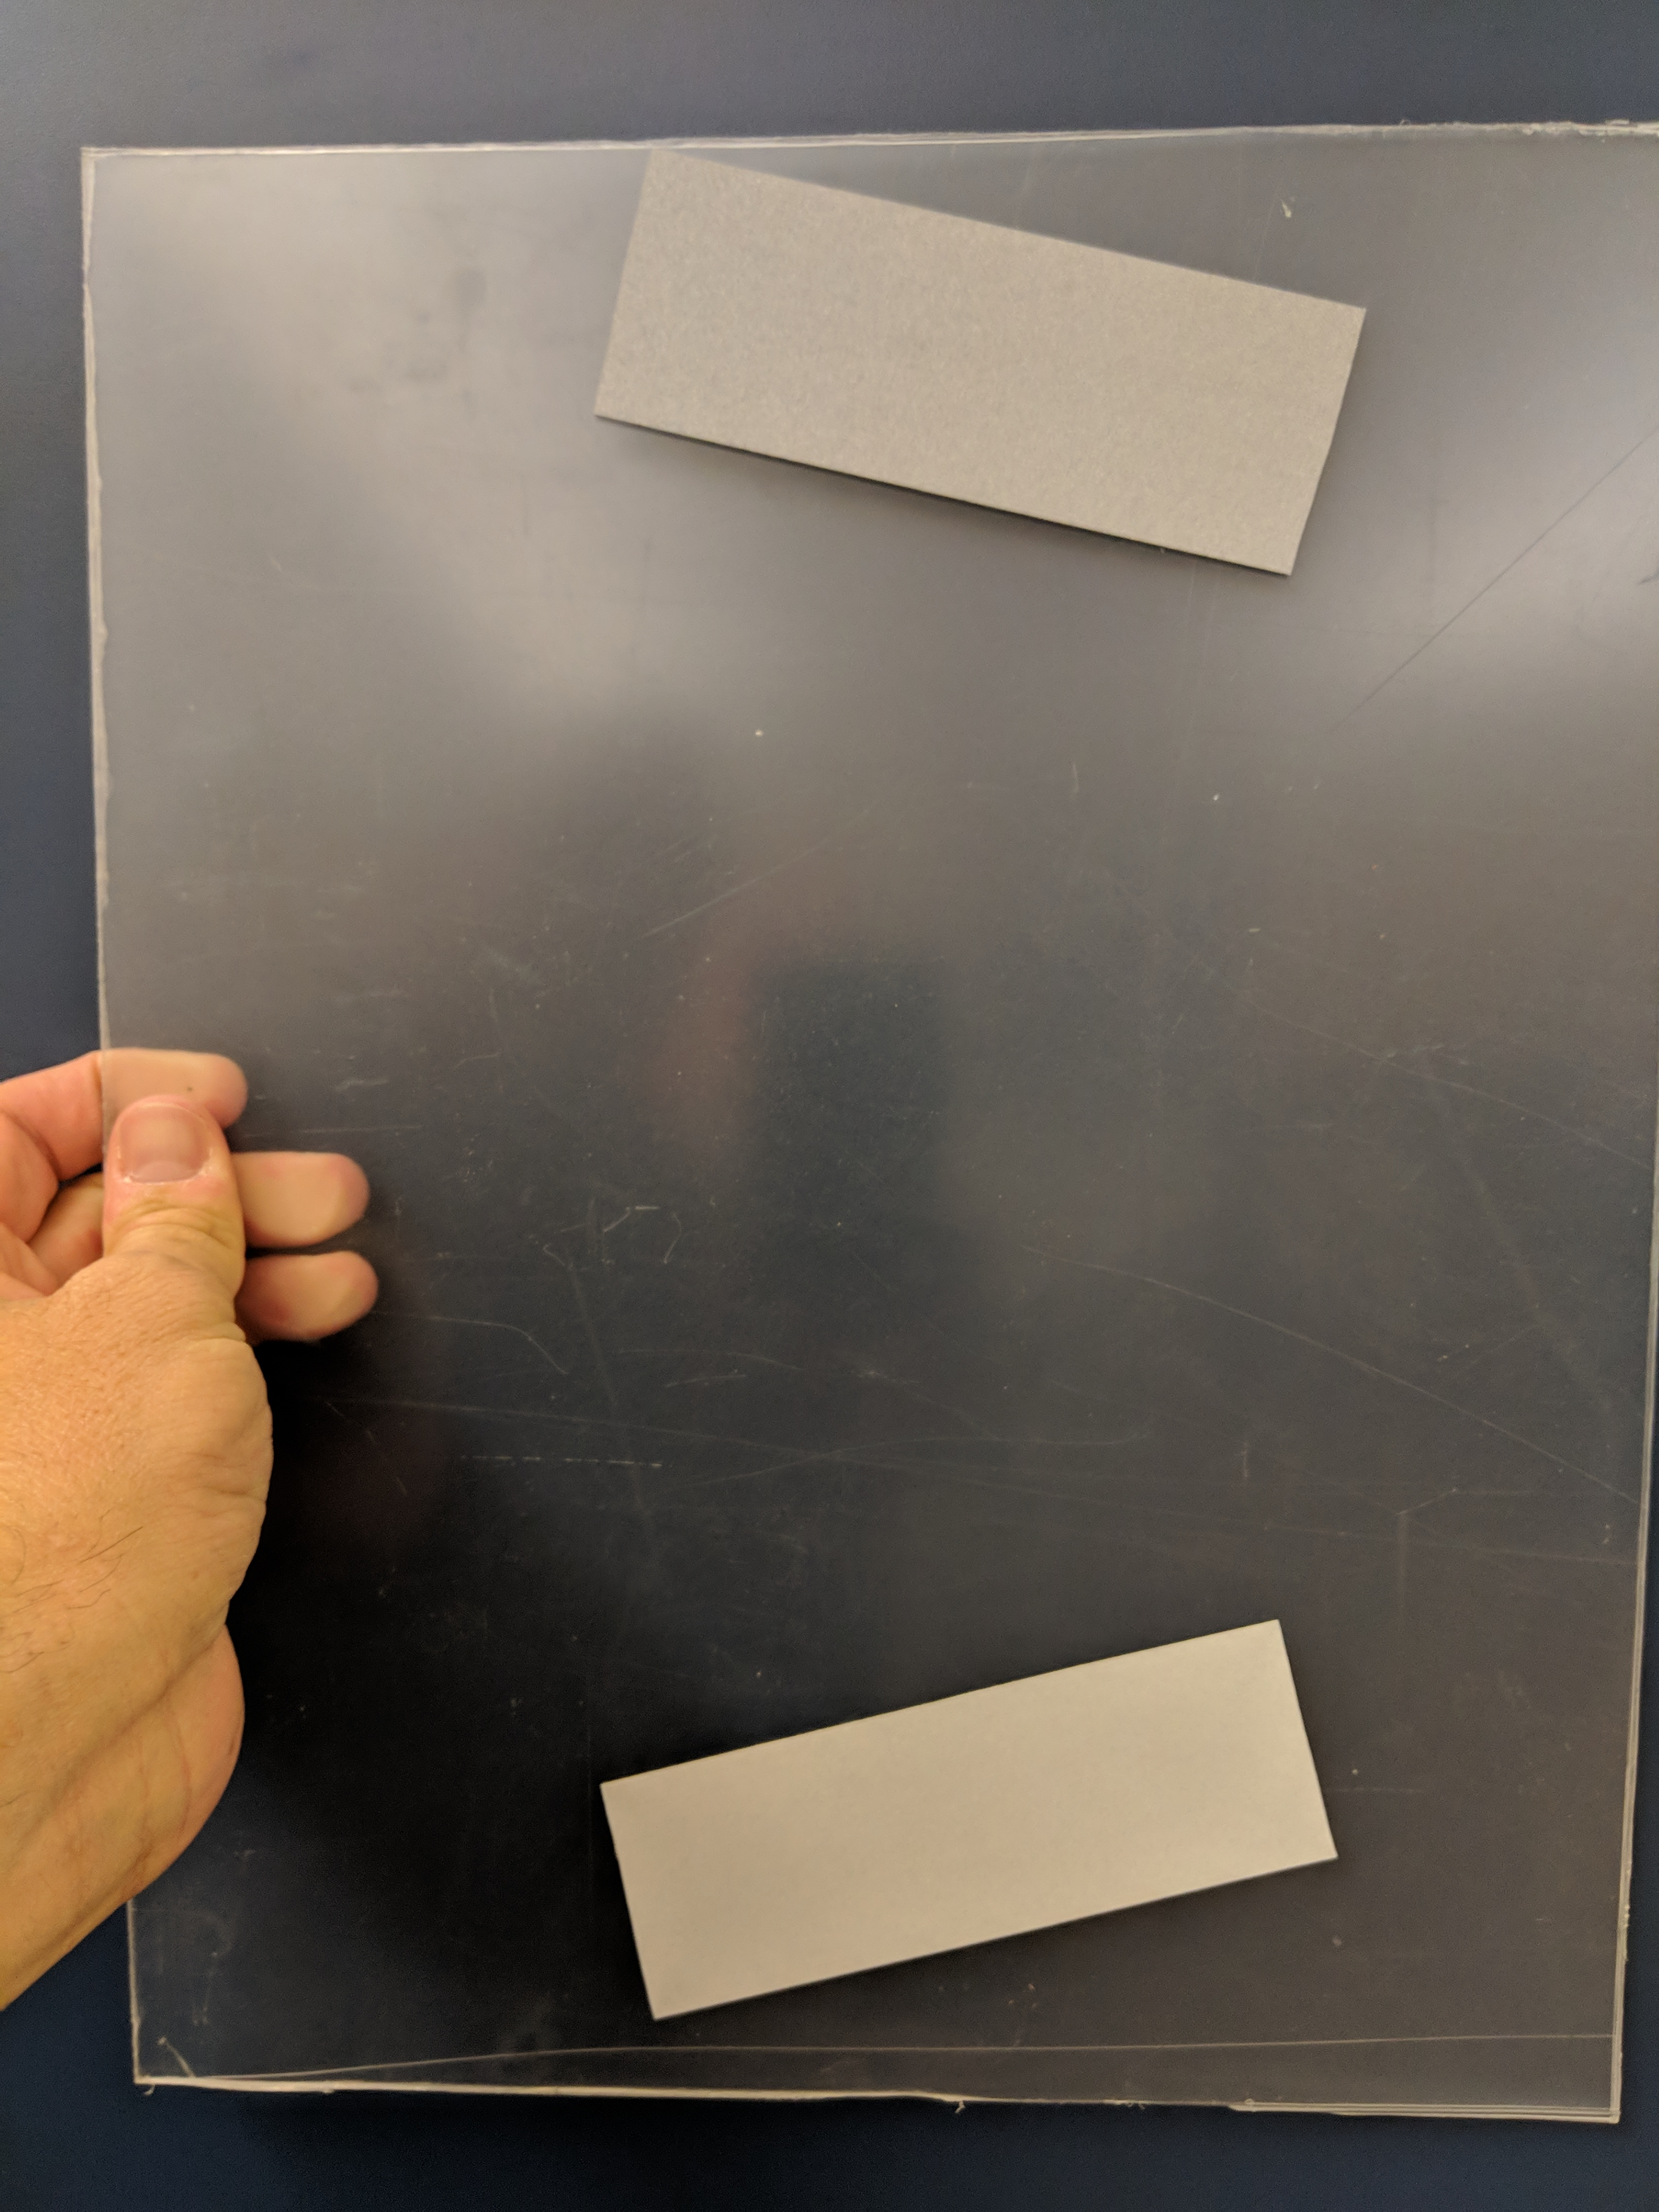vision_target: (570, 134, 1377, 2059)
